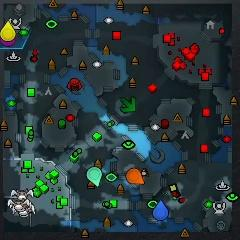p1: (152, 200, 168, 221)
p2: (87, 167, 102, 187)
p3: (0, 35, 17, 46)
p4: (0, 20, 16, 41)
p5: (126, 168, 145, 185)
x4: (120, 97, 136, 113)
